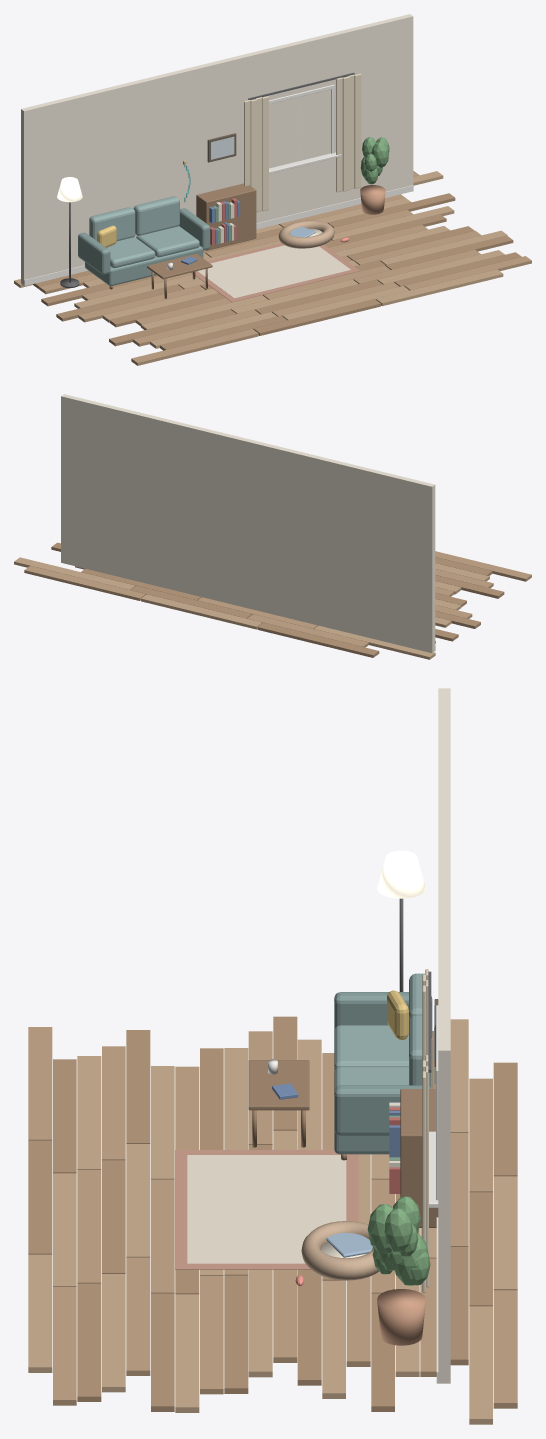
Rendered from home_room.glb.
The picture shows the model from 3 angles, top to bottom: view 1: azimuth 30°, elevation 25°; view 2: azimuth 150°, elevation 25°; view 3: azimuth 270°, elevation 25°; orthographic projection. The views are drawn at different scales.
Parts seen in each view (by area): view 1: home_room; view 2: home_room; view 3: home_room.
Boxes of the visible parts, <box> form: home_room: <box>14,14,531,365</box>; home_room: <box>14,394,531,659</box>; home_room: <box>28,688,517,1424</box>.
Size of the model in its own units: 7.77 by 3.05 by 4.
